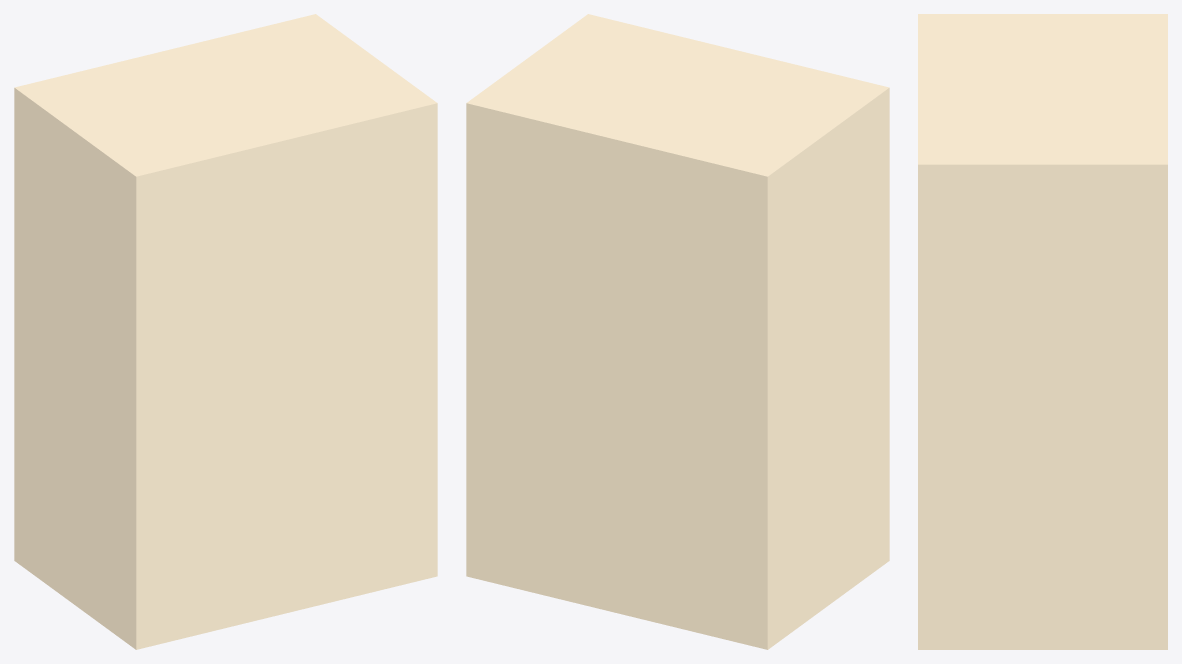
File: lamp-patio.glb
3 renders of one model, left to right at view 1: azimuth 30°, elevation 25°; view 2: azimuth 150°, elevation 25°; view 3: azimuth 270°, elevation 25°, orthographic. The views are drawn at different scales.
Visible parts, largest first — view 1: lamp-patio; view 2: lamp-patio; view 3: lamp-patio.
Part boxes in pixels (x1=…): lamp-patio: x1=14, y1=14, x2=437, y2=649; lamp-patio: x1=466, y1=14, x2=889, y2=649; lamp-patio: x1=918, y1=14, x2=1167, y2=649.
Bounding box in the file's own units: 0.5 × 0.75 × 0.35.
